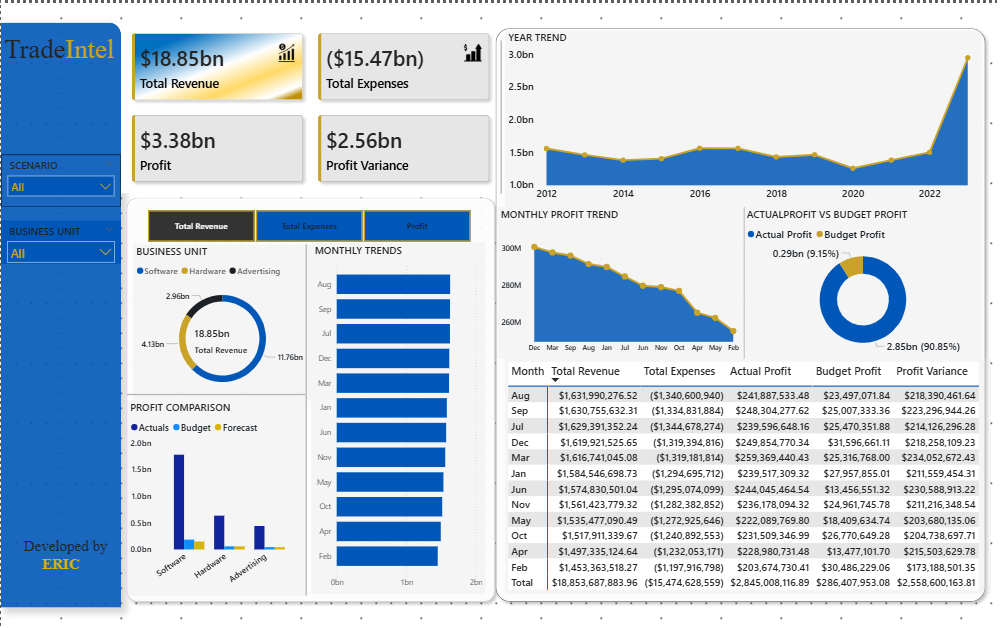

The page's visual inventory and layout, read from the dashboard file:
{"tool":"powerbi","page":{"name":"Page 1","canvas":[1600,1000],"ordinal":0},"visuals":[{"type":"shape","box":[0,31.2,192,936],"z":0},{"type":"textbox","box":[0,43.8,192,77.2],"z":1000},{"type":"cardVisual","fields":{"Data":["Financials.Total Revenue","Financials.Total Expenses","Financials.Profit","Financials.Profit Variance"]},"box":[192,31.2,607.2,273.6],"z":2000},{"type":"shape","box":[192,302.4,607.2,664.8],"z":3000},{"type":"donutChart","title":"BUSINESS UNIT","fields":{"Y":["Financials.Total Revenue"],"Category":["Financials.Business Unit"]},"box":[211.2,386.4,285.6,249.6],"z":4000},{"type":"slicer","fields":{"Values":["Metrics.Metrics"]},"box":[211.2,326.4,564,60],"z":5000},{"type":"cardVisual","fields":{"Data":["Financials.Total Revenue"]},"box":[292.8,499.2,132,69.6],"z":6000},{"type":"shape","box":[782.4,31.2,801.6,936],"z":7000},{"type":"lineChart","title":"YEAR TREND","fields":{"Y":["Financials.Total Revenue"],"Category":["Financials.Year"]},"box":[806.4,43.2,763.2,283.2],"z":8000},{"type":"clusteredColumnChart","title":"PROFIT COMPARISON","fields":{"Y":["Financials.Profit"],"Series":["Financials.Scenario"],"Category":["Financials.Business Unit"]},"box":[201.6,636,285.6,312],"z":9000},{"type":"donutChart","title":"ACTUALPROFIT VS BUDGET PROFIT","fields":{"Y":["Financials.Actual Profit","Financials.Budget Profit"]},"box":[1188,326.4,381.6,242.4],"z":10000},{"type":"clusteredBarChart","title":"MONTHLY TRENDS","fields":{"Y":["Financials.Total Revenue"],"Category":["Financials.Month"]},"box":[496.8,384,278.4,561.6],"z":11000},{"type":"slicer","fields":{"Values":["Financials.Scenario"]},"box":[0,242.4,192,84],"z":12000},{"type":"slicer","fields":{"Values":["Financials.Business Unit"]},"box":[0,348,192,69.6],"z":13000},{"type":"shape","box":[794.4,60,12,244.8],"z":14000},{"type":"shape","box":[201.6,616.8,285.6,19.2],"z":15000},{"type":"shape","box":[472.8,386.4,31.2,561.6],"z":16000},{"type":"pivotTable","fields":{"Rows":["Financials.Month"],"Values":["Financials.Total Revenue","Financials.Total Expenses","Financials.Actual Profit","Financials.Budget Profit","Financials.Profit Variance"]},"box":[806.4,568.8,777.6,376.8],"z":17000},{"type":"stackedAreaChart","title":"MONTHLY PROFIT TREND","fields":{"Category":["Financials.Month"],"Y":["Sum(Financials.Value)"]},"box":[794.4,326.4,393.6,242.4],"z":18000},{"type":"shape","box":[1183.2,326.4,12,242.4],"z":19000},{"type":"textbox","box":[0,849.6,192,72],"z":20000}]}

Visuals, with their boxes in screenshot pixels (x1, y1, x2, y2), scaled from the page's 1600x1000 canvas onto the 1000x628 screenshot:
shape: <region>0, 20, 120, 607</region>
textbox: <region>0, 28, 120, 76</region>
cardVisual - Financials.Total Revenue x Financials.Total Expenses: <region>120, 20, 500, 191</region>
shape: <region>120, 190, 500, 607</region>
"BUSINESS UNIT" donutChart: <region>132, 243, 310, 399</region>
slicer - Metrics.Metrics: <region>132, 205, 484, 243</region>
cardVisual - Financials.Total Revenue: <region>183, 313, 266, 357</region>
shape: <region>489, 20, 990, 607</region>
"YEAR TREND" lineChart: <region>504, 27, 981, 205</region>
"PROFIT COMPARISON" clusteredColumnChart: <region>126, 399, 304, 595</region>
"ACTUALPROFIT VS BUDGET PROFIT" donutChart: <region>742, 205, 981, 357</region>
"MONTHLY TRENDS" clusteredBarChart: <region>310, 241, 484, 594</region>
slicer - Financials.Scenario: <region>0, 152, 120, 205</region>
slicer - Financials.Business Unit: <region>0, 219, 120, 262</region>
shape: <region>496, 38, 504, 191</region>
shape: <region>126, 387, 304, 399</region>
shape: <region>296, 243, 315, 595</region>
pivotTable - Financials.Month x Financials.Total Revenue: <region>504, 357, 990, 594</region>
"MONTHLY PROFIT TREND" stackedAreaChart: <region>496, 205, 742, 357</region>
shape: <region>740, 205, 747, 357</region>
textbox: <region>0, 534, 120, 579</region>
